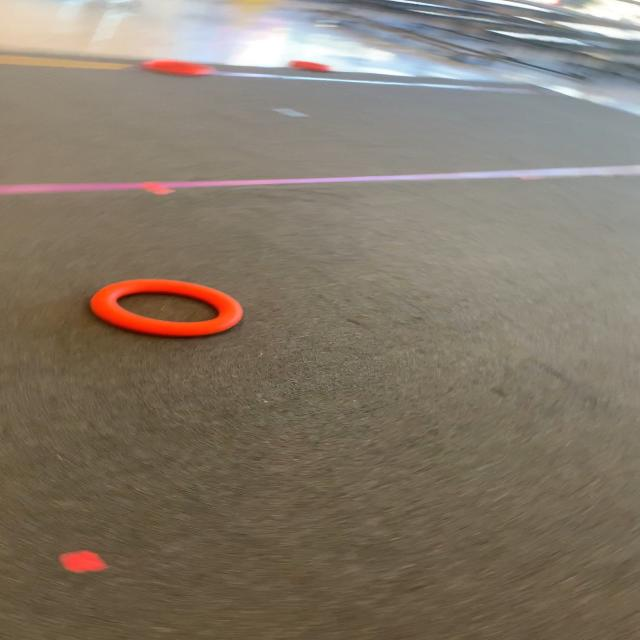notes: (90, 274, 245, 339), (142, 58, 219, 76), (288, 58, 332, 72)
